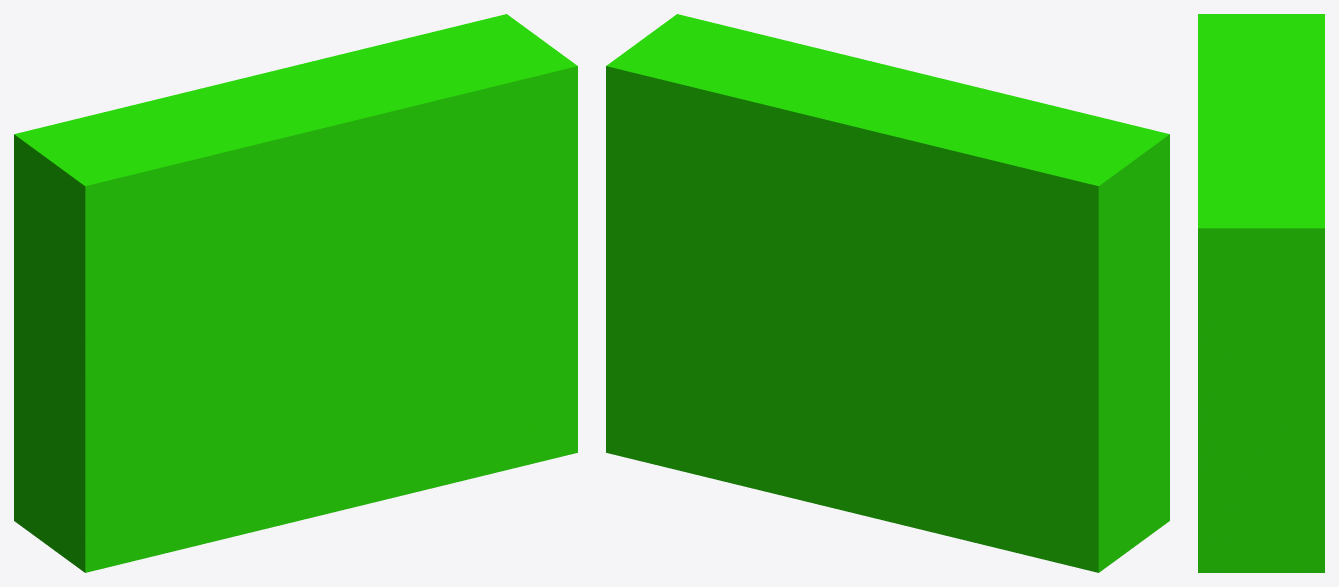
File: bin_stack_green.dae
3 renders of one model, left to right at view 1: azimuth 30°, elevation 25°; view 2: azimuth 150°, elevation 25°; view 3: azimuth 270°, elevation 25°, orthographic. The views are drawn at different scales.
Parts seen in each view (by area): view 1: node; view 2: node; view 3: node.
Part boxes in pixels (bbox=[...]): node: bbox=[14, 14, 577, 572]; node: bbox=[606, 14, 1169, 572]; node: bbox=[1198, 14, 1324, 572].
Bounding box in the file's own units: 0.4 × 0.3 × 0.1.
Materials: 1 (1 with a texture image).
